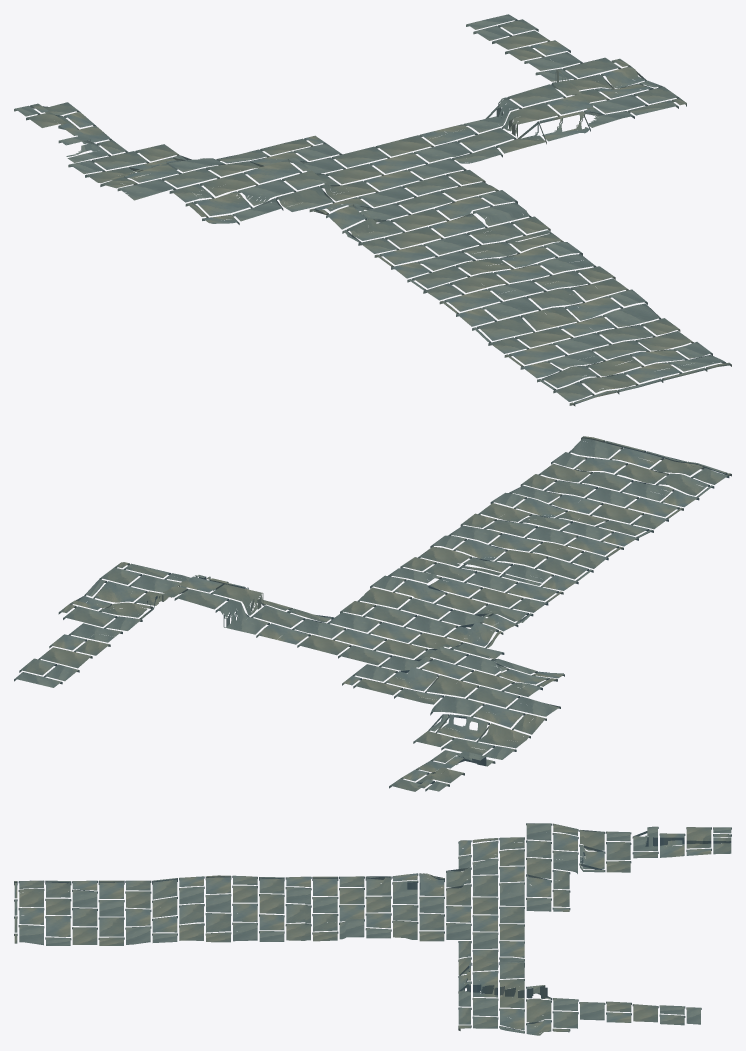
File: road-kit-h35.glb
The picture shows the model from 3 angles, top to bottom: view 1: azimuth 30°, elevation 25°; view 2: azimuth 150°, elevation 25°; view 3: azimuth 270°, elevation 25°; orthographic projection. The views are drawn at different scales.
Visible parts, largest first — view 1: H35 road kit — original runtime coordinates; view 2: H35 road kit — original runtime coordinates; view 3: H35 road kit — original runtime coordinates.
Part boxes in pixels (x1,y1,x2,y2): H35 road kit — original runtime coordinates: [14, 14, 731, 406]; H35 road kit — original runtime coordinates: [14, 436, 731, 791]; H35 road kit — original runtime coordinates: [14, 823, 731, 1035].
Size of the model in its own units: 11.25 by 0.6827 by 16.52.
1 material, 1 textured.
